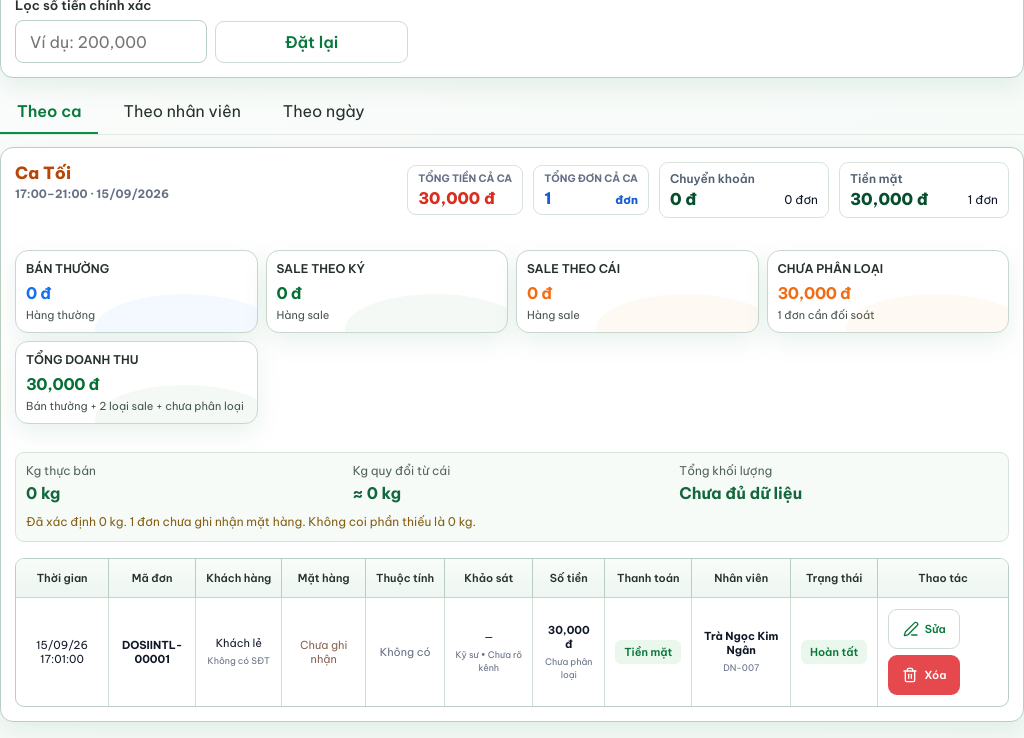
Test: StoreOrdersPage remote order completeness › refreshes edit and delete results with unchanged stateVersion and never restores a stale projection
The image size is (1024, 738).
(page scrolled)
Expected: the text "DOSIINTL-00001" is shown, top-left (122, 638), bottom-right (182, 666)
Click the button "Sửa" at {"x": 924, "y": 629}, box top-left (888, 609), bottom-right (960, 649)
(page scrolled)
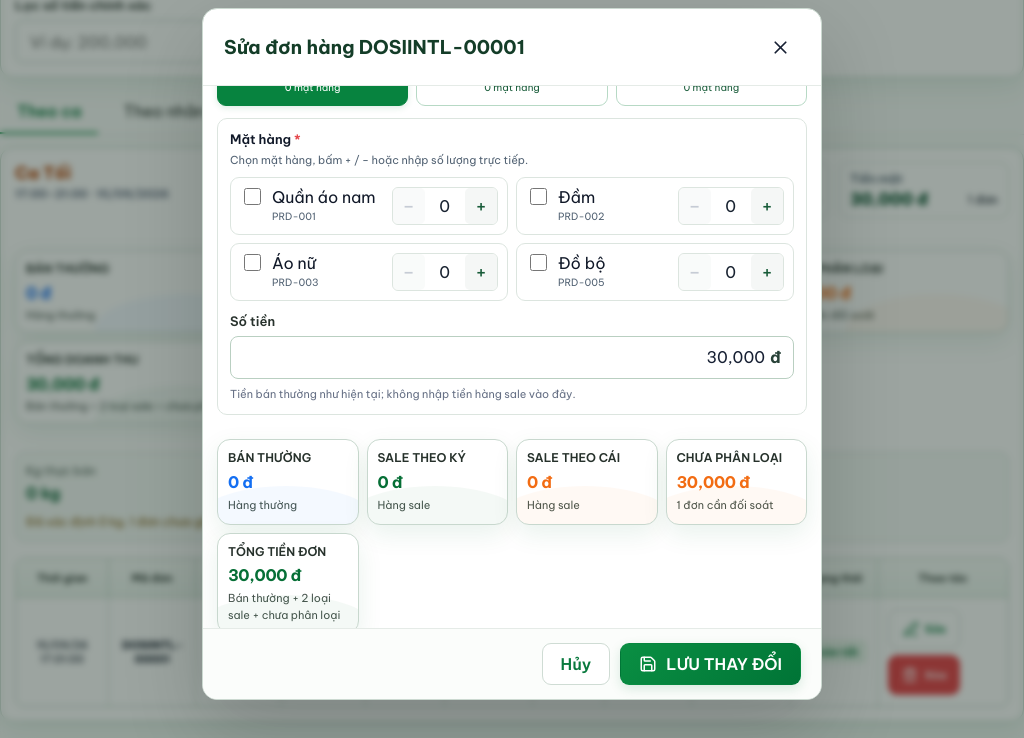
Replace the text in the field labelled "Số tiền" with "45,000" at {"x": 505, "y": 357}, box top-left (243, 337), bottom-right (767, 378)
(page scrolled)
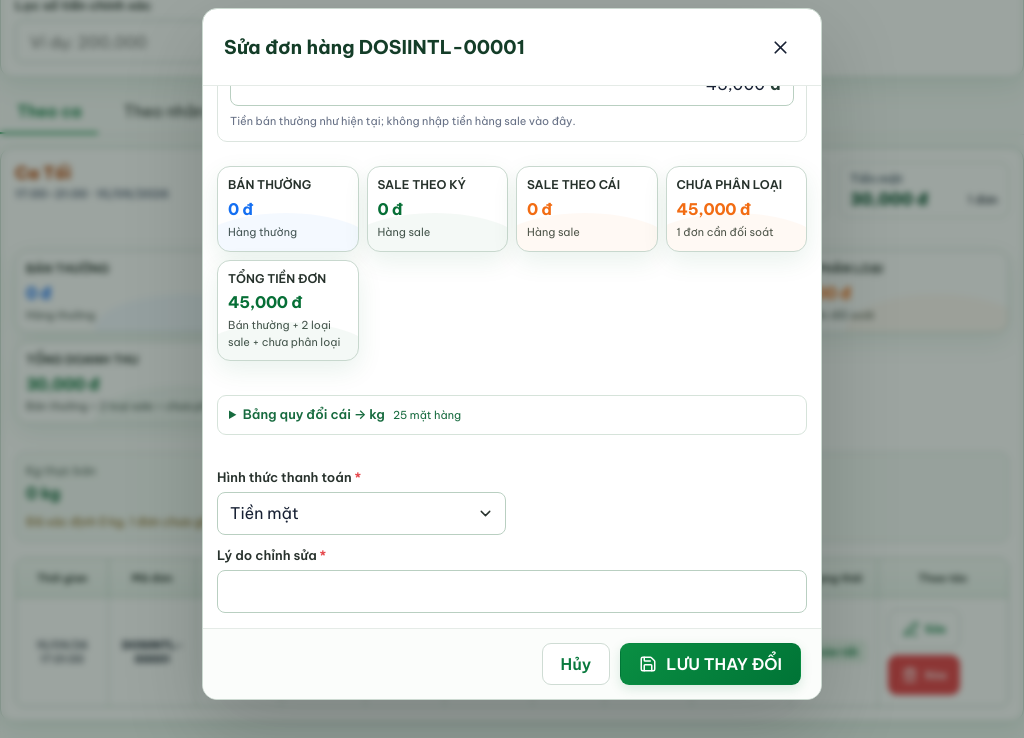
Select "Chuyển khoản" in the dropdown labelled "Hình thức thanh toán *" at {"x": 350, "y": 514}, box top-left (230, 493), bottom-right (471, 534)
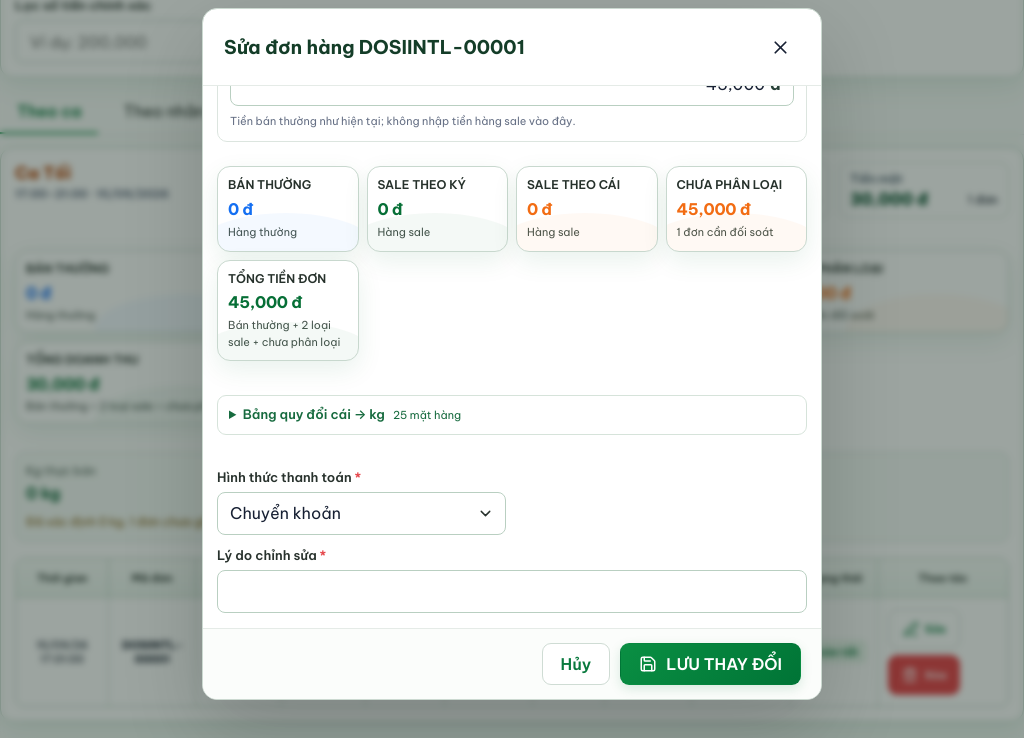
Type "Đối chiếu thanh toán" into the field labelled "Lý do chỉnh sửa *" at {"x": 512, "y": 592}, box top-left (230, 571), bottom-right (794, 612)
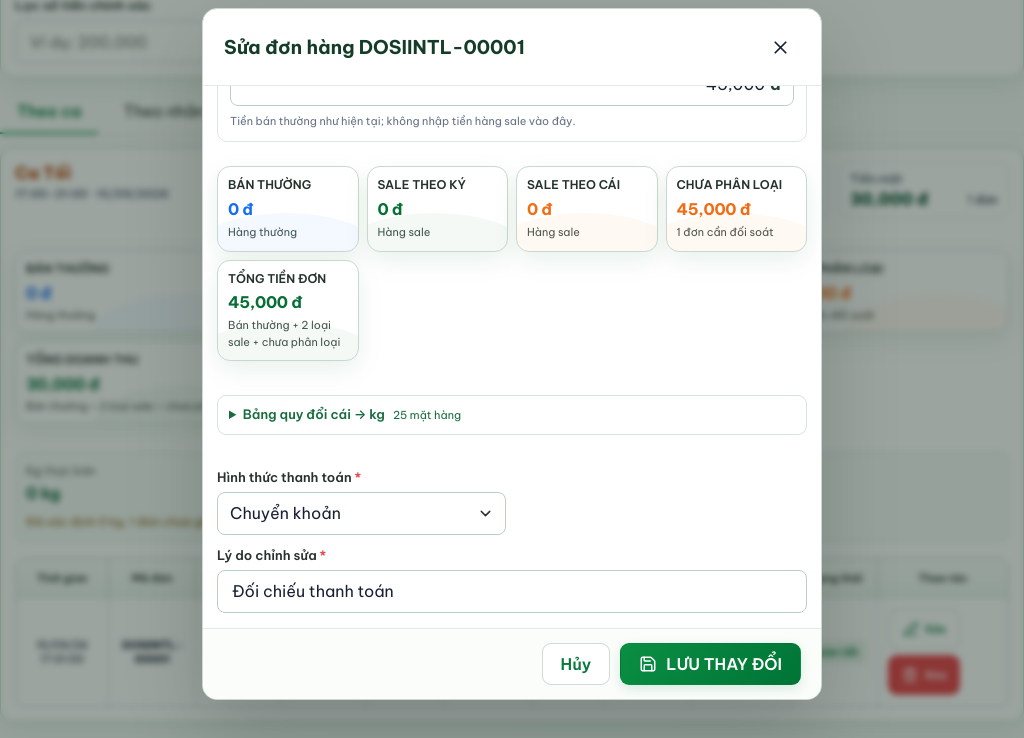
Click the button "LƯU THAY ĐỔI" at {"x": 711, "y": 664}, box top-left (620, 643), bottom-right (801, 685)
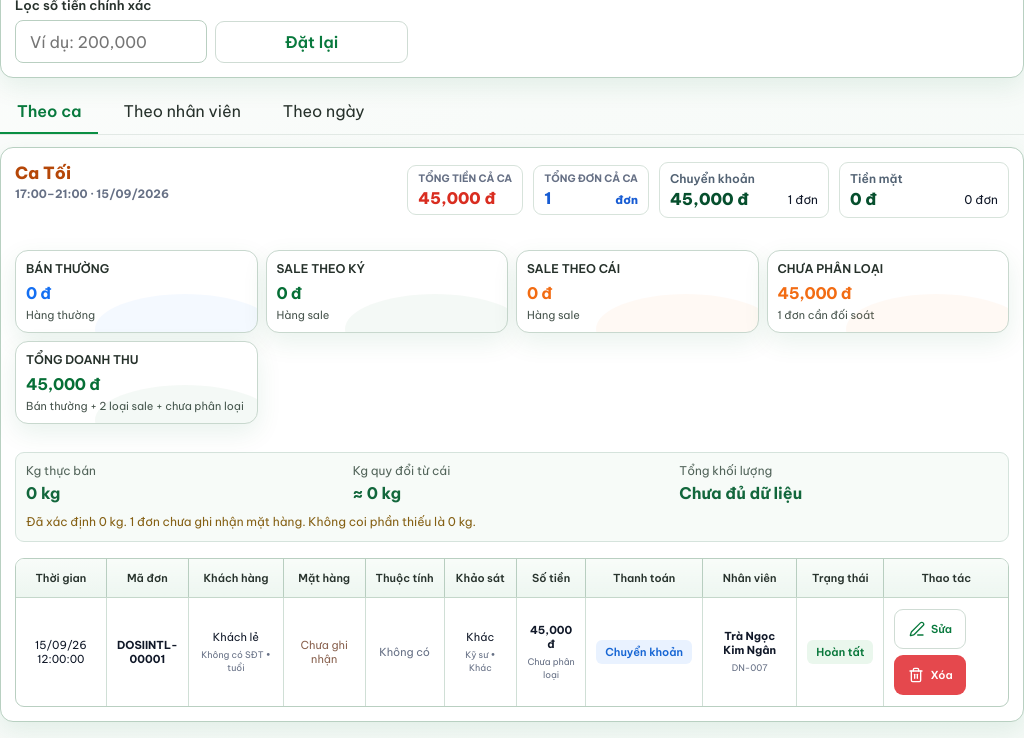
Result: the text "45,000 đ" in the row of "15/09/26 12:00:00" is shown at top-left (530, 623), bottom-right (572, 651)
Result: the text "Chuyển khoản" in the row of "15/09/26 12:00:00" is shown at top-left (605, 645), bottom-right (683, 659)
Click the button "Xóa" at {"x": 930, "y": 675}, box top-left (894, 655), bottom-right (966, 695)
(page scrolled)
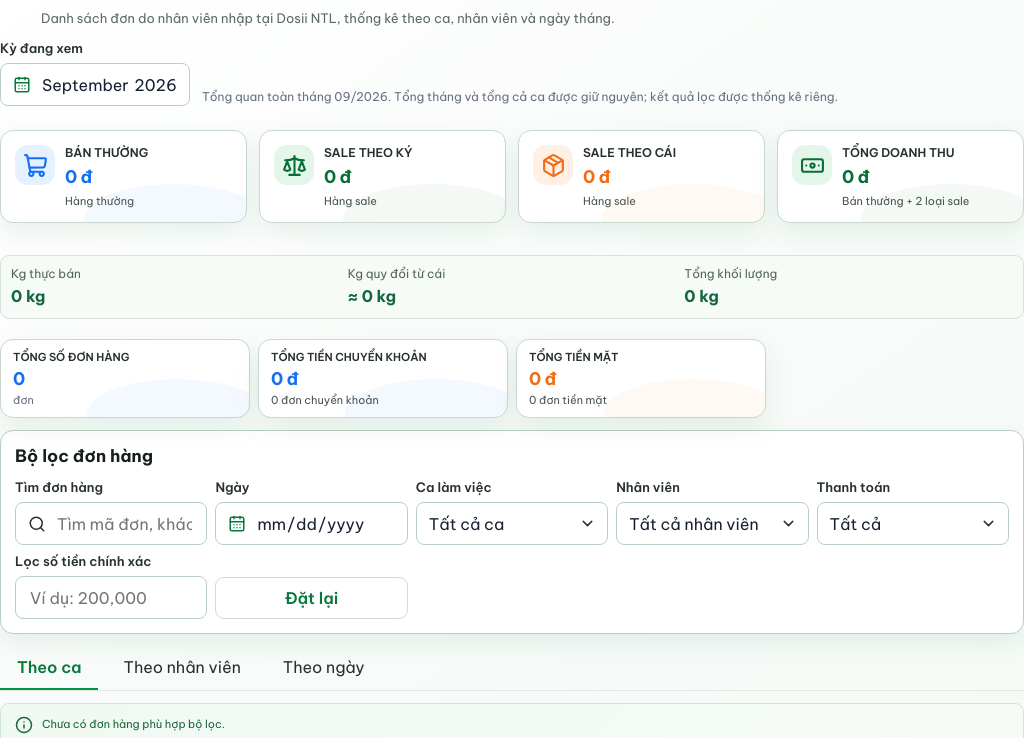
Expected: the 1st text "0 đ" is shown, top-left (65, 167), bottom-right (92, 189)
Result: the text "DOSIINTL-00001" is gone
